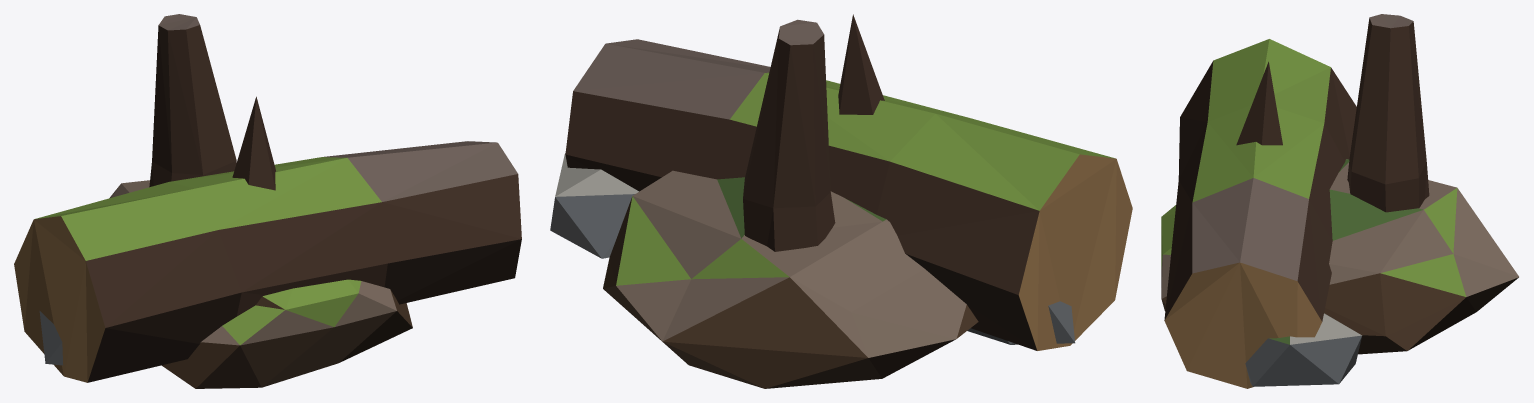
Rendered from SM_Rim_Log_B.fbx.
The picture shows the model from 3 angles, left to right: view 1: azimuth 30°, elevation 25°; view 2: azimuth 150°, elevation 25°; view 3: azimuth 270°, elevation 25°; orthographic projection. The views are drawn at different scales.
Parts seen in each view (by area): view 1: SM_Rim_Log_B; view 2: SM_Rim_Log_B; view 3: SM_Rim_Log_B.
Part boxes in pixels (box(x1,y1,x2,y2)): SM_Rim_Log_B: box(14, 14, 521, 388); SM_Rim_Log_B: box(550, 14, 1132, 388); SM_Rim_Log_B: box(1161, 14, 1518, 388).
Bounding box in the file's own units: 4.93 × 2.97 × 3.51.
